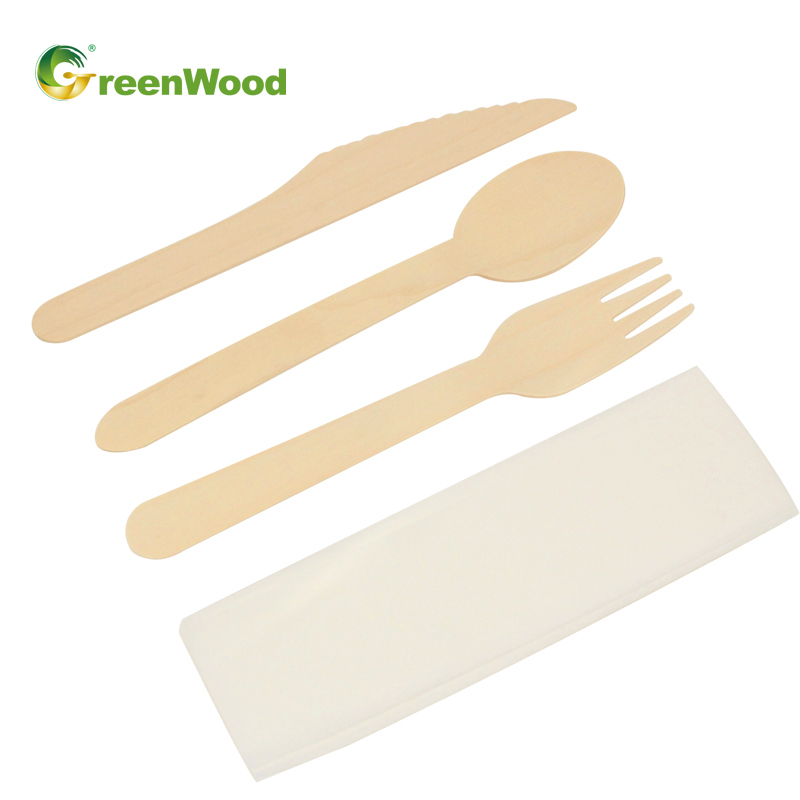Wooden Utensils: (19, 69, 682, 549)
